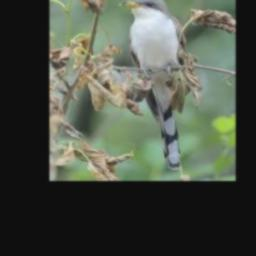Cuckoo: (119, 0, 185, 171)
